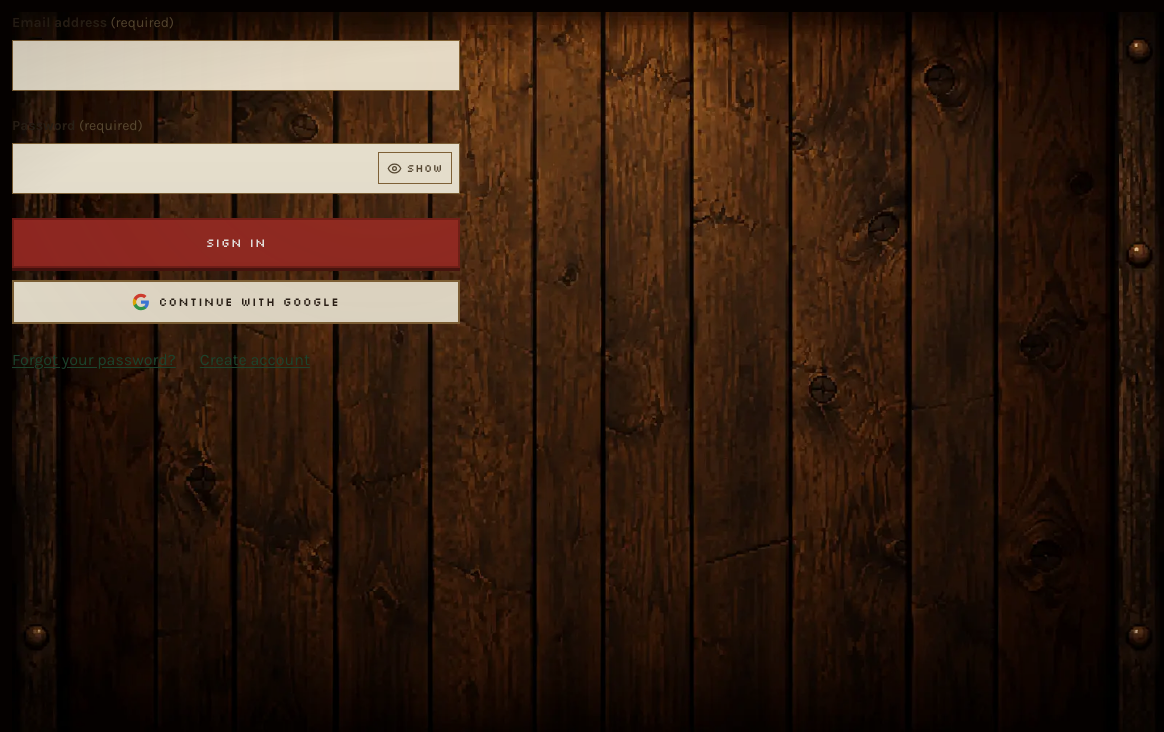
asks for the device code even when Clerk lists no second factors yet
The width and height of the screenshot is (1164, 732).
Type "student@example.edu.my" into the field labelled "Email address (required)" at [236, 65], box [12,40,460,91]
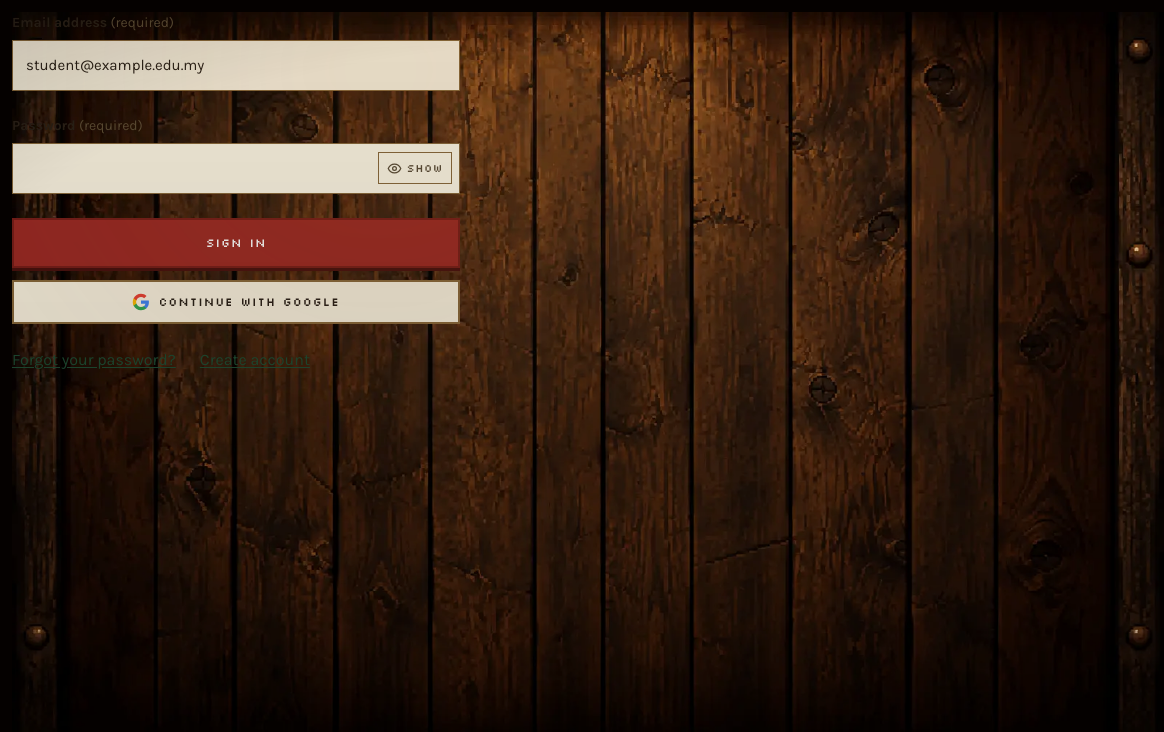
Type "a-long-passphrase" into the password field labelled "Password (required)" at [236, 168], box [12,143,460,194]
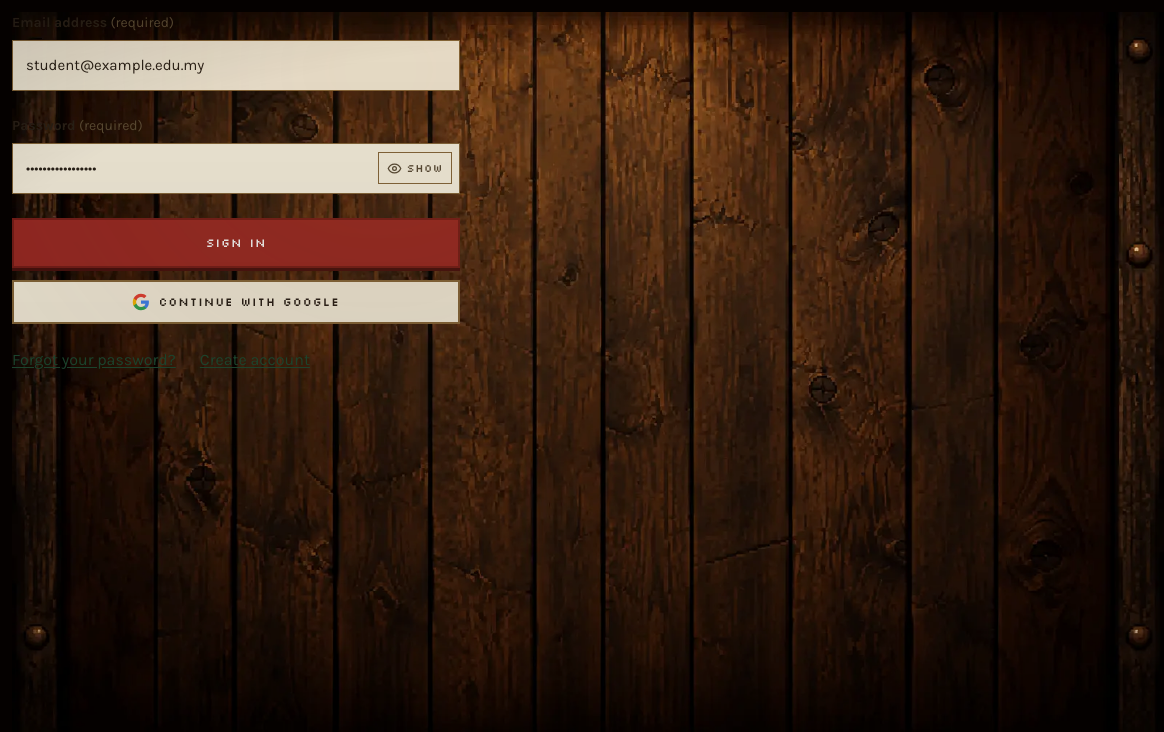
Click the button "Sign in" at [236, 243], box [12,218,460,268]
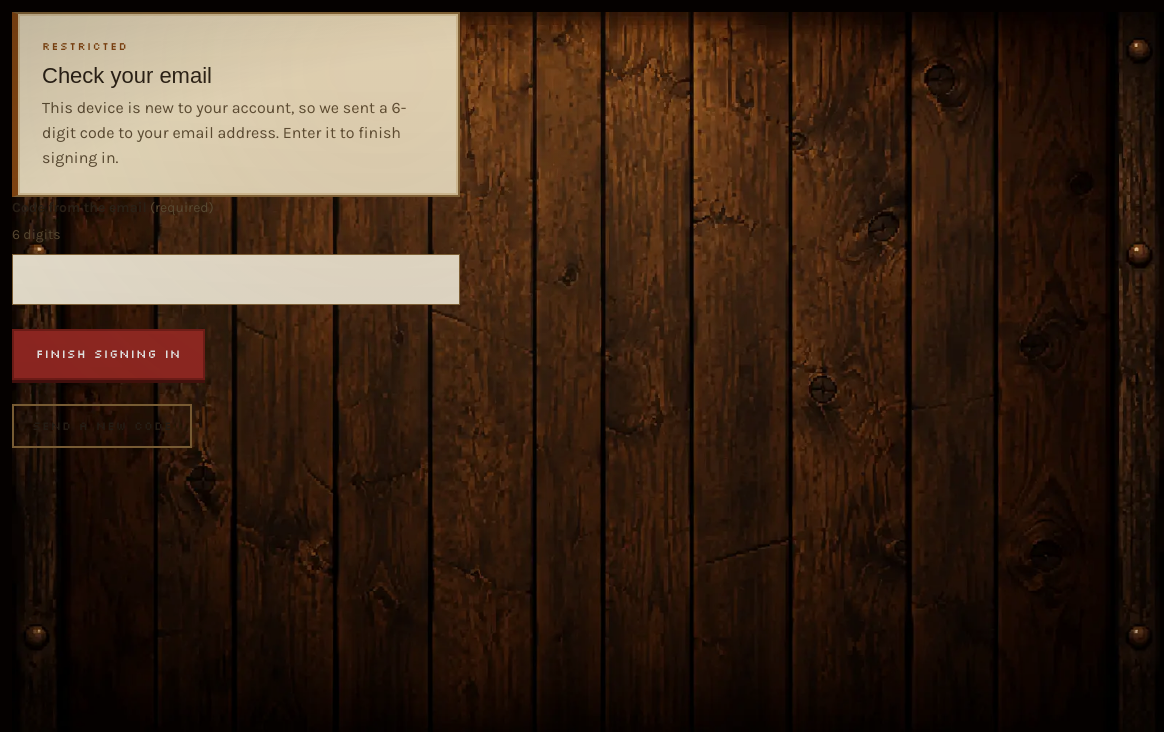
Expected: the heading "Check your email" is shown, [42,63,212,88]
